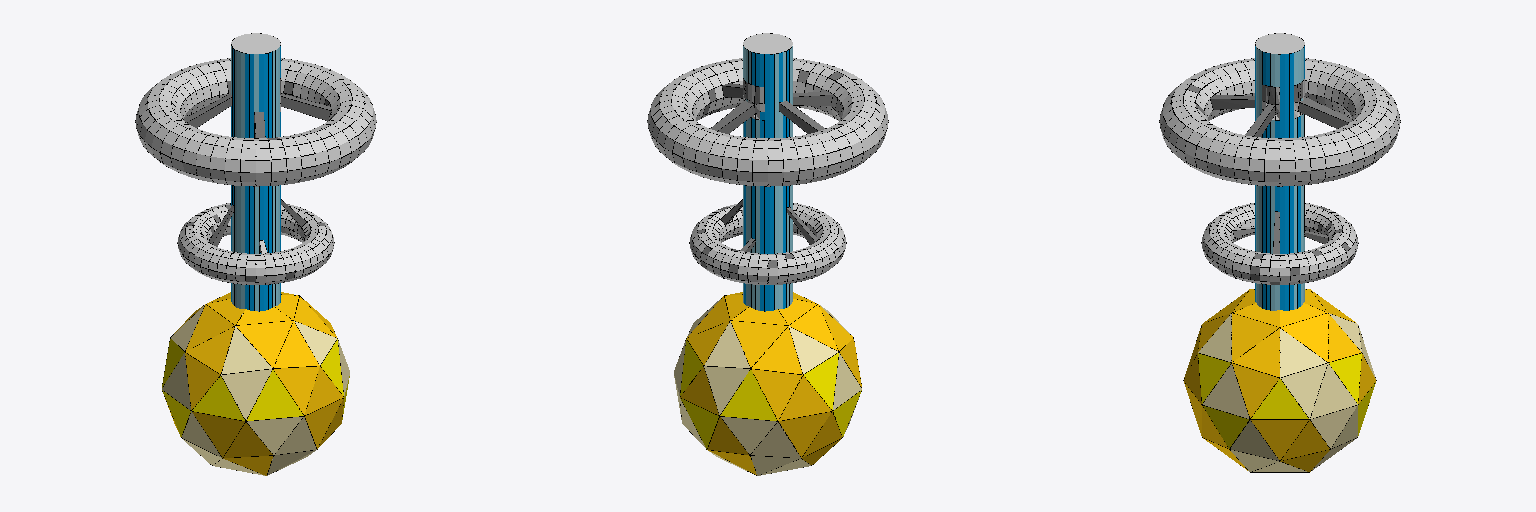
3 renders of one model, left to right at view 1: azimuth 30°, elevation 25°; view 2: azimuth 150°, elevation 25°; view 3: azimuth 270°, elevation 25°, orthographic.
Visible parts, largest first — view 1: zap_tower_Cylinder, zap_sphere_Icosphere; view 2: zap_tower_Cylinder, zap_sphere_Icosphere; view 3: zap_tower_Cylinder, zap_sphere_Icosphere.
Boxes of the visible parts, <box> form: zap_tower_Cylinder: <box>135,33,376,311</box>; zap_sphere_Icosphere: <box>162,292,349,475</box>; zap_tower_Cylinder: <box>647,33,888,311</box>; zap_sphere_Icosphere: <box>674,292,861,475</box>; zap_tower_Cylinder: <box>1159,33,1400,310</box>; zap_sphere_Icosphere: <box>1183,289,1376,472</box>.
Size of the model in its own units: 2.5 by 4.85 by 2.5.
Materials: 2 (2 with a texture image).